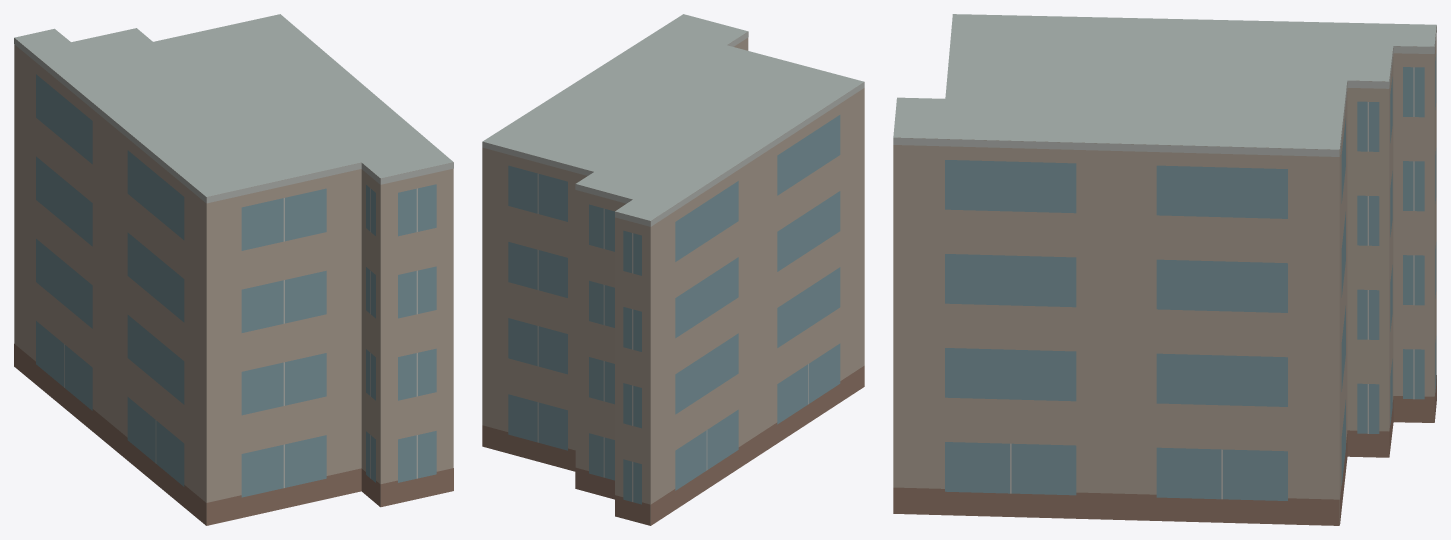
Rendered from survey-upis-32697959.glb.
3 views of the same model, side by side, from view 1: azimuth 30°, elevation 25°; view 2: azimuth 150°, elevation 25°; view 3: azimuth 270°, elevation 25° (orthographic). The views are drawn at different scales.
Visible parts, largest first — view 1: survey-upis-32697959.tmp; view 2: survey-upis-32697959.tmp; view 3: survey-upis-32697959.tmp.
Boxes of the visible parts, x1,y1,x2,y2 form: survey-upis-32697959.tmp: (14,14,453,525); survey-upis-32697959.tmp: (482,14,864,525); survey-upis-32697959.tmp: (893,14,1436,525).
Size of the model in its own units: 9.68 by 12.5 by 16.38.
